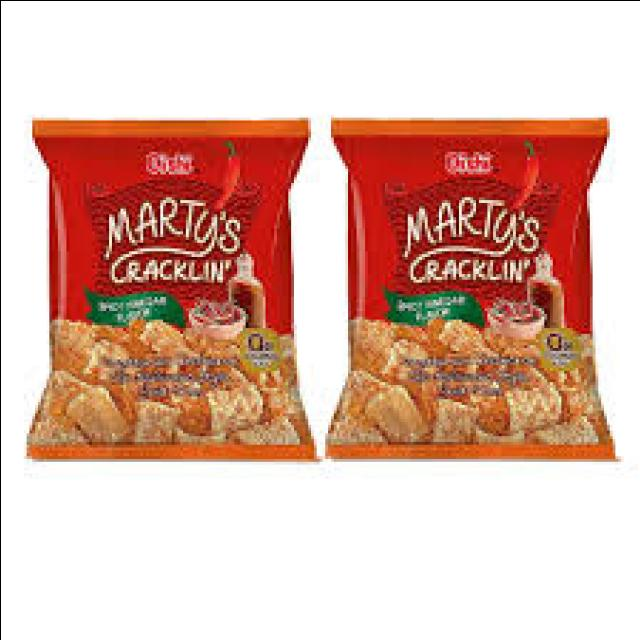junkfood wrapper: (324, 118, 612, 458), (26, 119, 312, 458)
